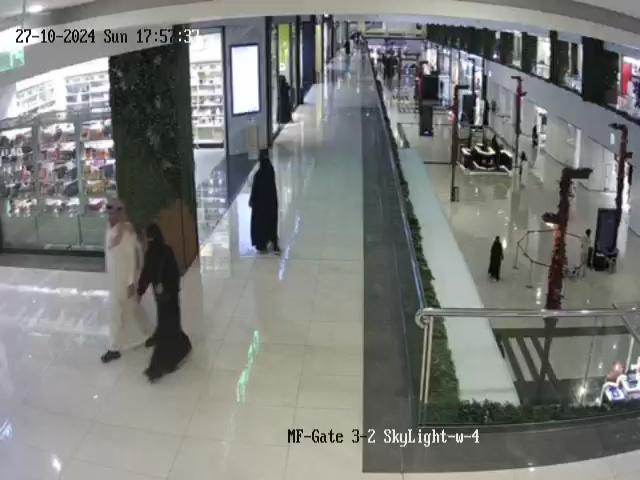female: (136, 222, 193, 383), (248, 148, 280, 254), (273, 72, 296, 132), (488, 236, 504, 282)
male: (100, 196, 154, 363)
